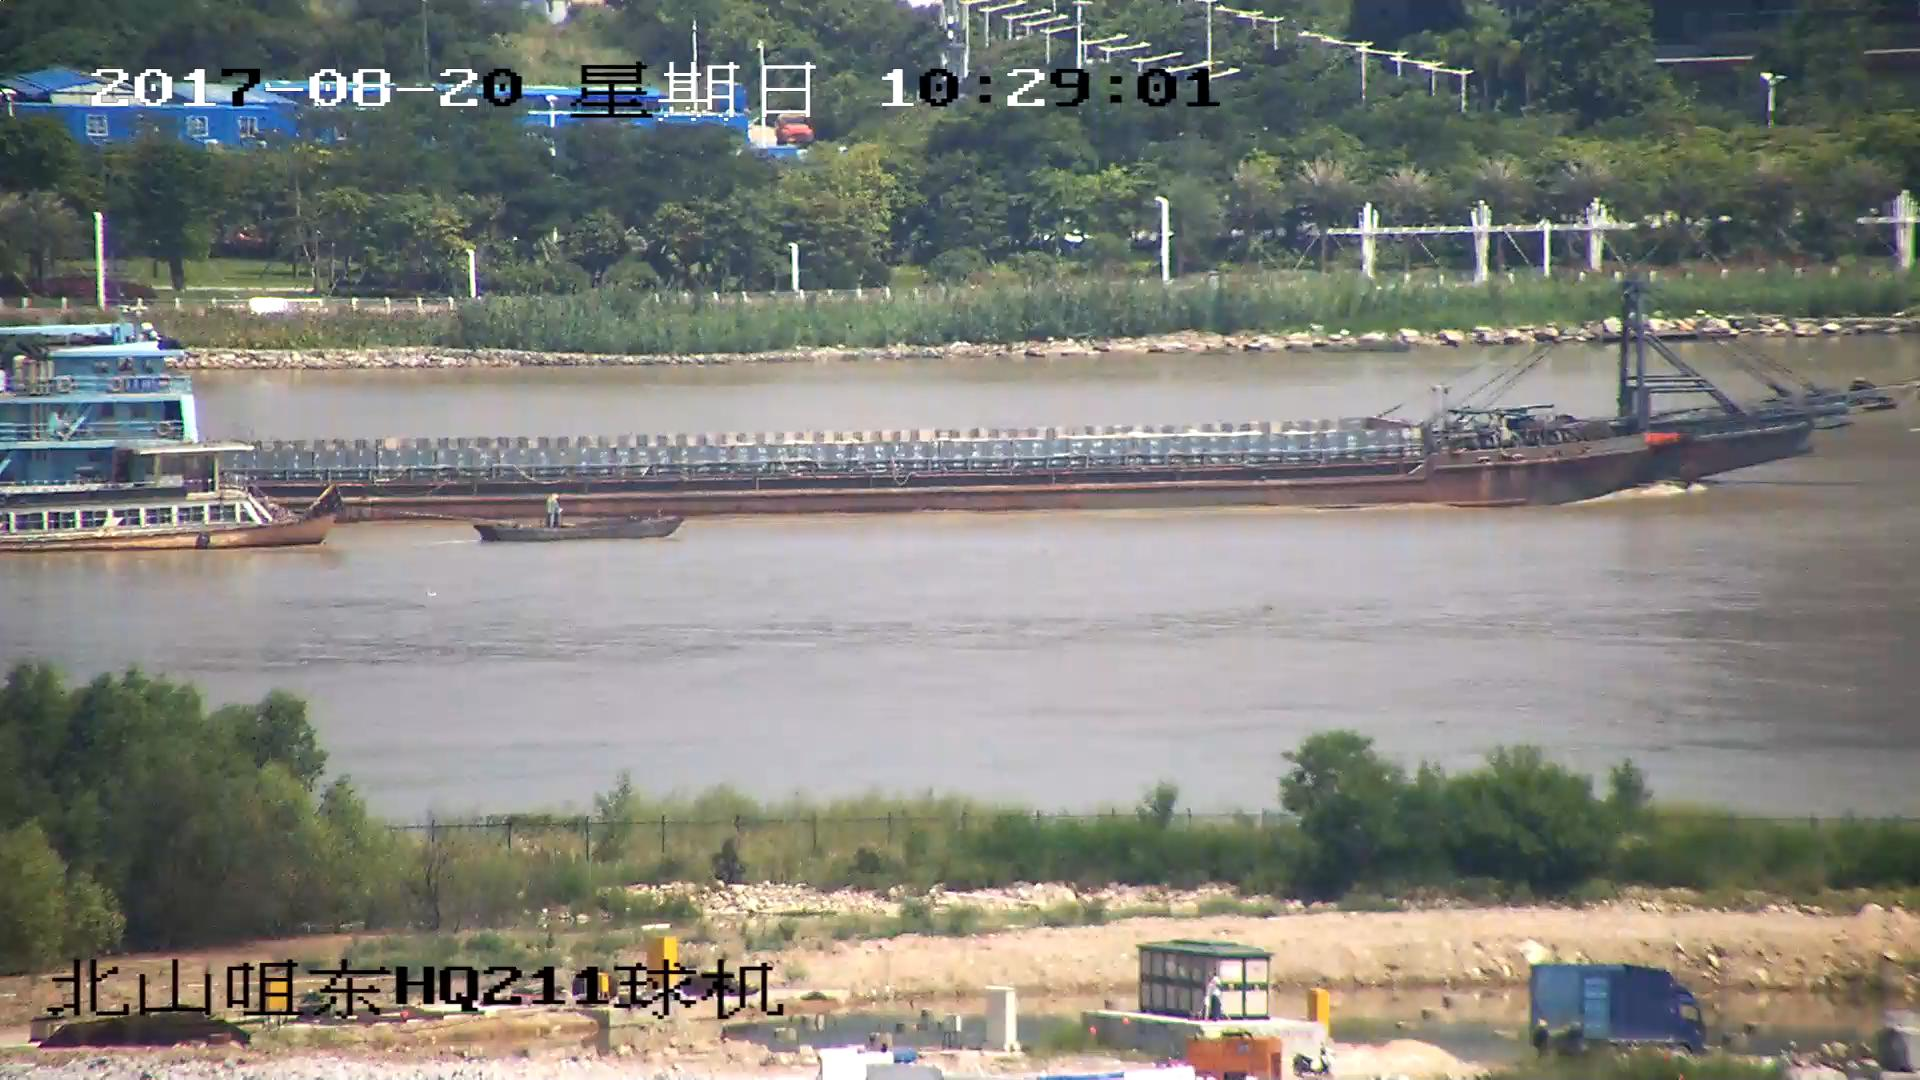fishing boat: (1, 444, 344, 556), (482, 493, 684, 542)
ore carrier: (1, 267, 1902, 524)
